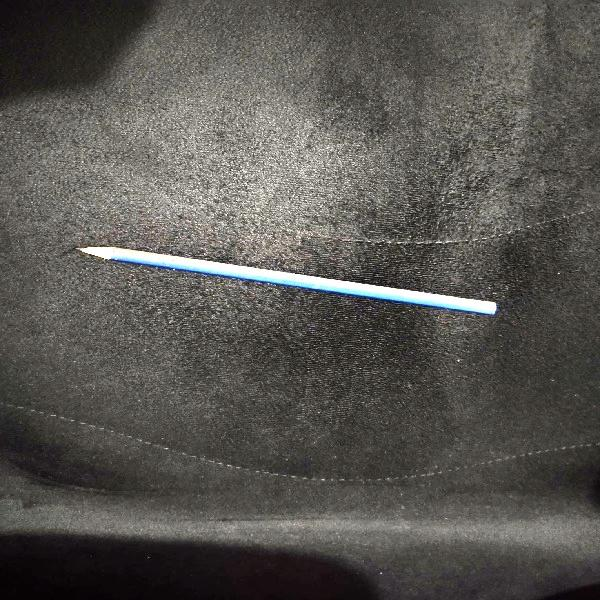pencil: (78, 236, 502, 323)
